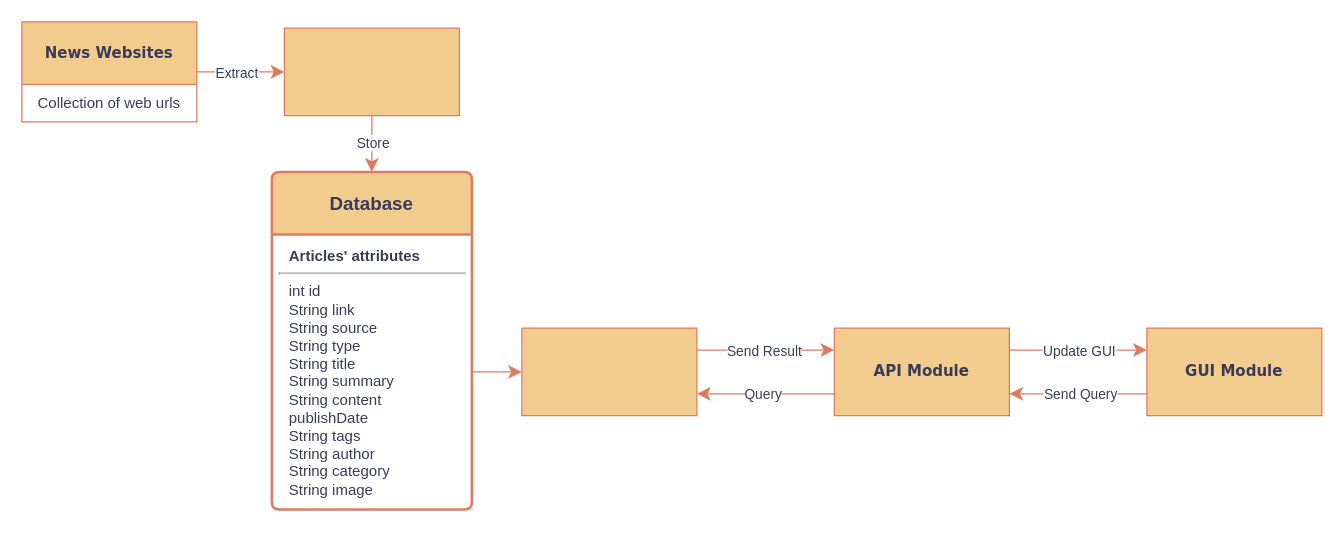
This 1344x541 diagram has some shape labels left out. The shapes that lost their labels are listed below. From the top down, each one's centre as x and y in pixels, then its label:
At point (371, 71): "Data Collection Module".
At point (609, 371): "Data Analysis Module".
